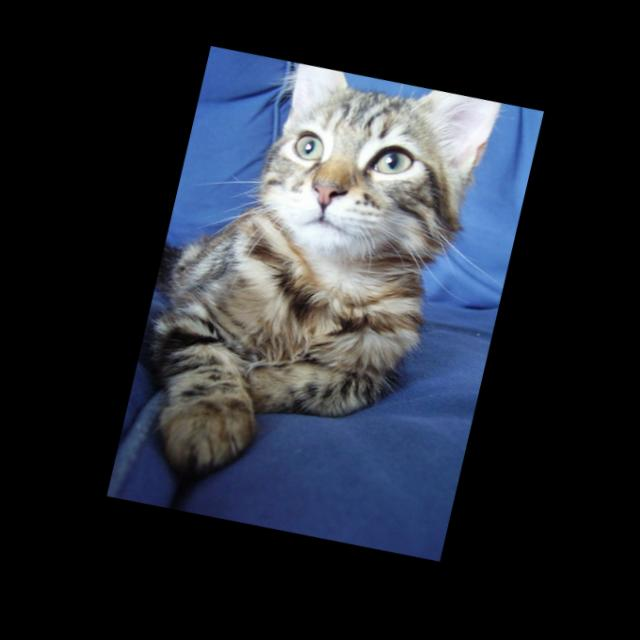animals: (270, 60, 485, 242)
